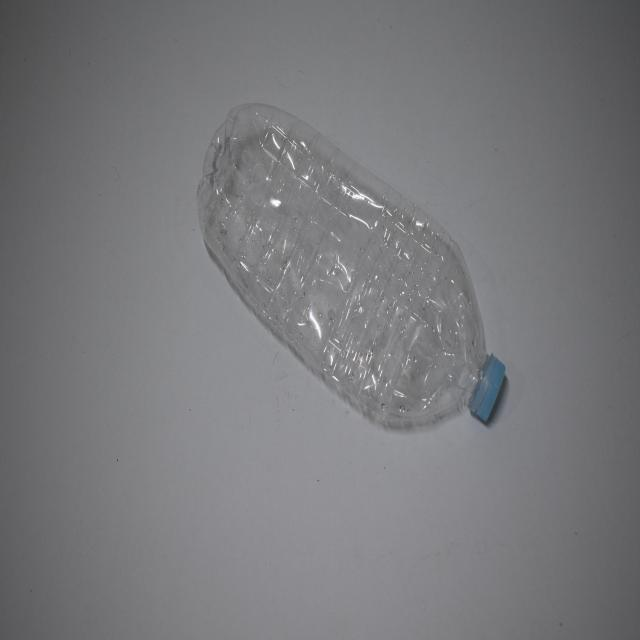empty: (197, 104, 504, 425)
